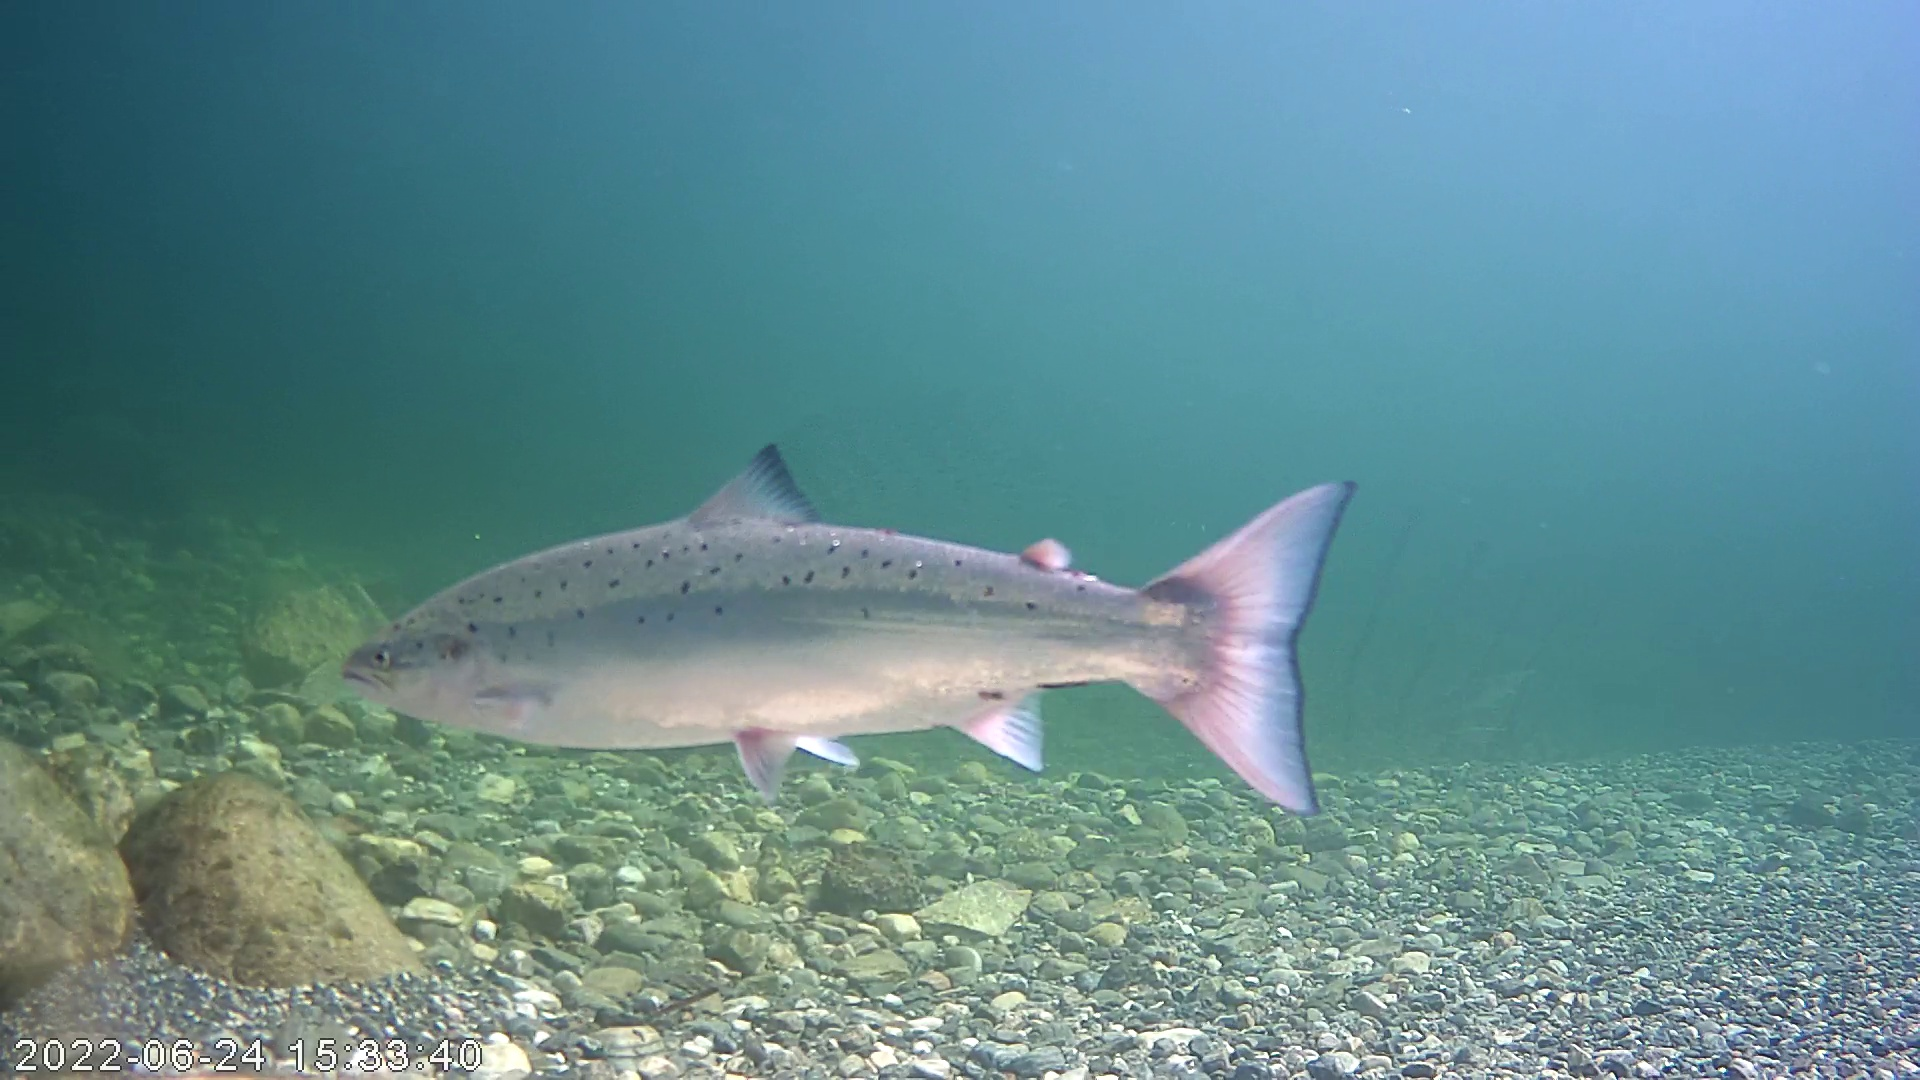salmon: (338, 439, 1360, 822)
